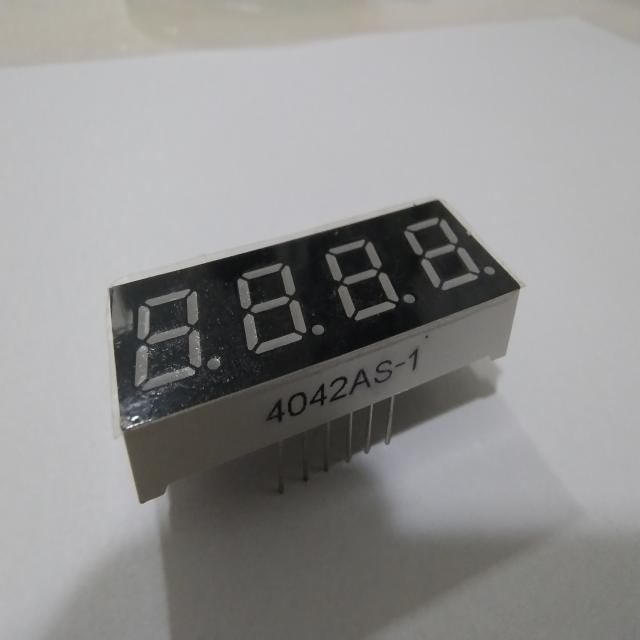7_segments_4_digits: (97, 194, 524, 503)
